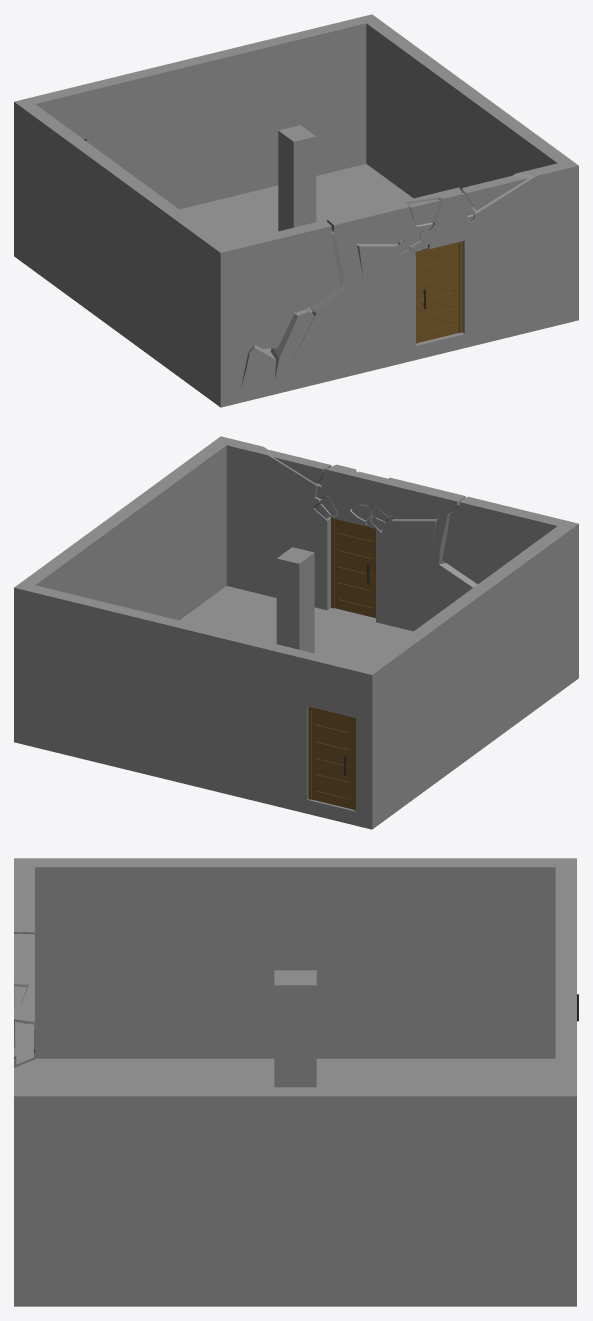
Rendered from MSH_Room_Quad_Damaged_03.fbx.
3 renders of one model, top to bottom at view 1: azimuth 30°, elevation 25°; view 2: azimuth 150°, elevation 25°; view 3: azimuth 270°, elevation 25°, orthographic. The views are drawn at different scales.
Parts seen in each view (by area): view 1: MSH_Room_Quad_Damaged_03, MSH_Door_Single011, MSH_DoorFrame_Single011; view 2: MSH_Room_Quad_Damaged_03, MSH_Door_Single008, MSH_Door_Single011, MSH_DoorFrame_Single008; view 3: MSH_Room_Quad_Damaged_03.
Part boxes in pixels (x1,y1,x2,y2): MSH_Room_Quad_Damaged_03: [14, 14, 578, 407]; MSH_Door_Single011: [417, 244, 458, 342]; MSH_DoorFrame_Single011: [415, 241, 462, 343]; MSH_Room_Quad_Damaged_03: [14, 436, 578, 829]; MSH_Door_Single008: [311, 711, 353, 809]; MSH_Door_Single011: [334, 519, 375, 617]; MSH_DoorFrame_Single008: [308, 706, 355, 810]; MSH_Room_Quad_Damaged_03: [14, 858, 576, 1306].
Size of the model in its own units: 315 by 130 by 316.
